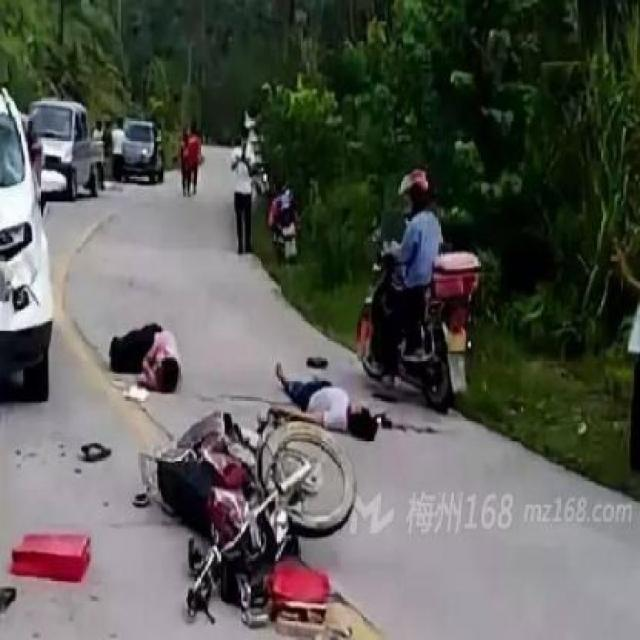fall: (98, 309, 185, 400)
